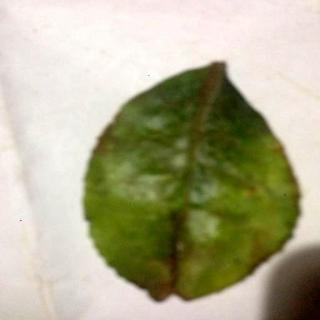Red Leaf Spot: (83, 63, 299, 303)
